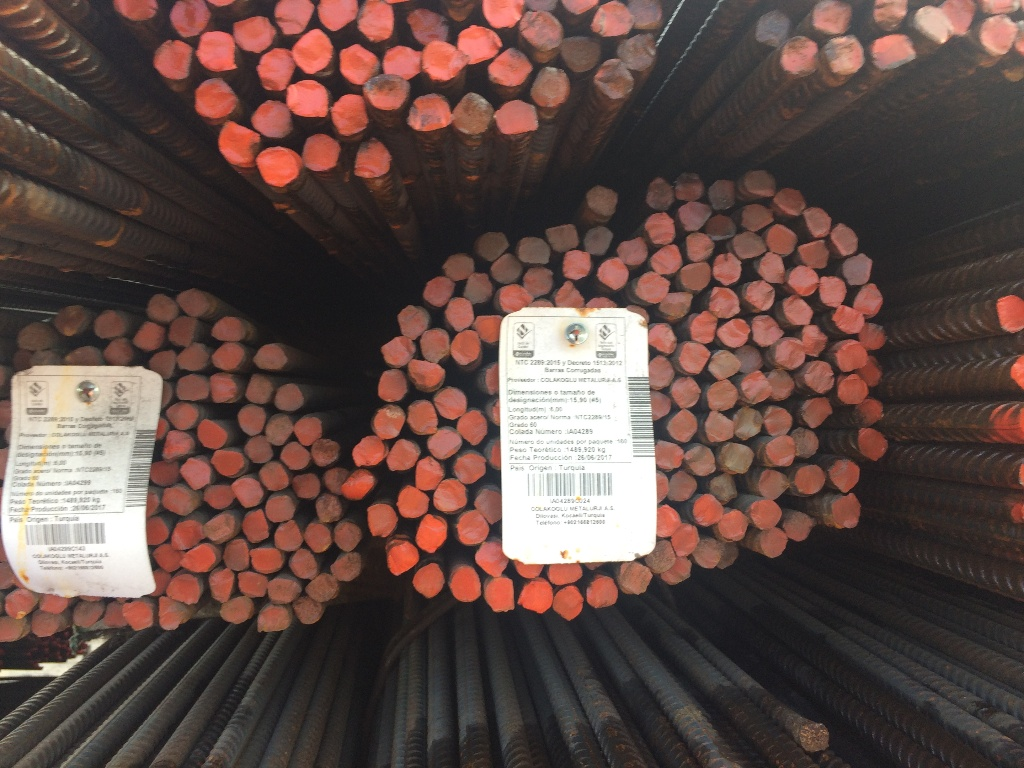dipstick: (450, 95, 494, 137), (219, 123, 259, 167), (193, 32, 237, 71), (193, 81, 238, 119), (254, 149, 300, 186), (329, 94, 370, 135), (340, 43, 380, 85), (285, 80, 329, 118), (251, 100, 293, 139), (153, 43, 196, 81), (293, 33, 333, 73), (410, 96, 452, 133), (232, 18, 277, 52), (364, 75, 409, 109), (594, 61, 634, 99), (779, 37, 819, 75), (381, 44, 421, 81), (915, 8, 955, 45), (872, 37, 918, 69), (562, 38, 602, 74), (824, 36, 865, 71), (591, 6, 636, 37), (978, 18, 1015, 55), (430, 478, 467, 515), (521, 15, 562, 48), (492, 52, 534, 84), (459, 30, 502, 61), (360, 3, 395, 41), (422, 44, 461, 78), (352, 143, 392, 176), (314, 1, 358, 30), (624, 2, 665, 33), (172, 4, 210, 37), (275, 1, 314, 33), (460, 511, 494, 547), (778, 300, 814, 334), (518, 577, 555, 610), (664, 407, 697, 444), (482, 578, 517, 612), (793, 460, 827, 495), (475, 540, 509, 575), (414, 456, 448, 491), (552, 278, 586, 313), (497, 102, 538, 131), (786, 265, 822, 298), (704, 284, 740, 317), (412, 516, 449, 548), (675, 261, 713, 292), (630, 274, 672, 302), (813, 3, 852, 33), (409, 15, 449, 44), (304, 136, 338, 170), (716, 510, 750, 544), (343, 468, 377, 502), (122, 599, 157, 632), (386, 541, 421, 574), (531, 70, 569, 100), (756, 15, 794, 45), (163, 485, 201, 515), (209, 372, 244, 404), (154, 598, 186, 633), (615, 565, 655, 593), (645, 352, 676, 388), (483, 1, 525, 27), (619, 38, 658, 66), (173, 515, 206, 548), (800, 360, 834, 392), (438, 384, 470, 418), (92, 311, 127, 342), (485, 255, 522, 284), (873, 1, 906, 33), (264, 494, 297, 526), (675, 199, 708, 231), (749, 498, 782, 530), (471, 486, 504, 518), (682, 447, 716, 478), (372, 408, 407, 438), (395, 489, 430, 519), (756, 256, 791, 286), (586, 187, 623, 215), (202, 515, 240, 542), (354, 433, 386, 465), (802, 396, 834, 428), (595, 257, 627, 289), (197, 418, 230, 449), (705, 178, 738, 209), (731, 407, 764, 438), (678, 341, 711, 372), (132, 323, 166, 353), (856, 425, 886, 459), (719, 444, 753, 474), (232, 478, 267, 507), (399, 305, 434, 334), (496, 285, 535, 311), (254, 605, 290, 633), (772, 341, 808, 369), (179, 456, 211, 487), (831, 496, 862, 528), (366, 503, 398, 534), (835, 373, 867, 404), (443, 301, 475, 332), (472, 312, 504, 343), (182, 546, 216, 575), (381, 337, 416, 365), (739, 204, 774, 232), (408, 365, 443, 393), (763, 409, 798, 437), (448, 333, 483, 361), (250, 547, 286, 574), (545, 559, 582, 585), (271, 522, 302, 553), (259, 464, 290, 495), (690, 539, 721, 570), (451, 569, 482, 600), (163, 429, 195, 459), (644, 178, 674, 210), (837, 339, 867, 371), (408, 404, 440, 434), (799, 326, 831, 356), (458, 411, 488, 443), (646, 324, 678, 354), (734, 343, 764, 375), (742, 172, 775, 201), (764, 371, 797, 400), (560, 252, 594, 280), (666, 475, 700, 503), (707, 381, 741, 409), (997, 295, 1024, 330), (682, 233, 717, 260), (730, 233, 766, 259), (171, 318, 202, 348), (154, 541, 184, 572), (802, 206, 832, 237), (415, 566, 445, 597), (692, 496, 723, 526), (246, 377, 278, 406), (712, 255, 744, 284), (702, 412, 734, 441), (453, 453, 485, 482), (756, 473, 790, 500), (657, 505, 684, 539), (143, 293, 178, 319), (518, 240, 553, 266), (116, 1, 161, 21), (263, 415, 293, 445), (237, 405, 267, 435), (719, 317, 749, 347), (172, 575, 203, 604), (835, 305, 864, 336), (745, 284, 776, 313), (743, 373, 774, 402), (655, 292, 694, 315), (861, 321, 888, 354), (557, 588, 584, 621), (821, 274, 848, 307), (706, 218, 740, 244), (175, 292, 210, 317), (211, 345, 246, 370), (219, 598, 254, 623), (771, 190, 806, 215), (312, 438, 341, 468), (330, 557, 359, 587), (279, 442, 309, 471), (149, 352, 179, 381), (378, 367, 407, 397), (583, 226, 612, 256), (829, 226, 860, 254), (586, 579, 617, 607), (428, 427, 459, 455), (945, 4, 977, 31), (76, 600, 108, 627), (705, 475, 737, 502), (334, 521, 360, 554), (210, 567, 236, 600), (19, 320, 52, 346), (616, 236, 649, 262), (175, 375, 209, 400), (479, 235, 513, 260), (289, 550, 318, 579), (293, 595, 322, 624), (246, 438, 275, 467), (223, 540, 252, 569), (646, 215, 675, 244), (801, 241, 830, 270), (655, 441, 684, 470), (308, 574, 338, 602), (243, 511, 271, 541), (238, 569, 268, 597), (422, 329, 450, 359), (690, 313, 718, 343), (523, 268, 554, 295), (254, 345, 286, 371), (213, 448, 245, 474), (55, 307, 87, 333), (292, 472, 321, 500), (843, 255, 871, 284), (767, 225, 796, 253), (387, 440, 415, 469), (169, 402, 199, 429), (829, 462, 859, 489), (421, 279, 451, 306), (315, 495, 341, 526), (674, 174, 705, 200), (268, 576, 300, 601), (441, 257, 474, 281), (548, 228, 581, 252), (852, 289, 881, 316), (749, 315, 778, 342), (647, 540, 677, 566), (710, 352, 740, 378), (308, 521, 333, 552), (176, 346, 207, 371), (816, 279, 847, 304), (651, 252, 684, 275), (104, 602, 131, 630), (297, 417, 323, 446), (856, 361, 885, 387), (665, 561, 694, 587), (793, 429, 819, 458), (215, 318, 245, 343), (205, 480, 231, 508), (673, 381, 701, 407), (275, 386, 304, 411), (649, 391, 676, 417), (8, 590, 36, 615), (30, 614, 60, 637), (464, 280, 494, 303), (327, 467, 349, 498), (36, 592, 67, 614), (142, 519, 168, 545), (669, 527, 695, 553), (758, 533, 787, 556), (152, 463, 182, 485), (485, 360, 505, 393), (856, 400, 881, 426), (786, 515, 812, 540), (515, 556, 544, 578), (2, 618, 29, 641), (65, 348, 99, 366), (442, 4, 478, 20), (149, 571, 172, 596), (627, 301, 652, 324), (103, 343, 129, 364), (145, 489, 162, 519), (982, 3, 1024, 15), (30, 351, 61, 367), (587, 296, 619, 311), (488, 437, 502, 471), (567, 1, 600, 15), (1012, 354, 1024, 392), (718, 543, 738, 565), (655, 471, 670, 500), (1, 398, 13, 432), (1, 451, 15, 479), (12, 352, 32, 370), (1, 563, 12, 588), (488, 400, 502, 418)
